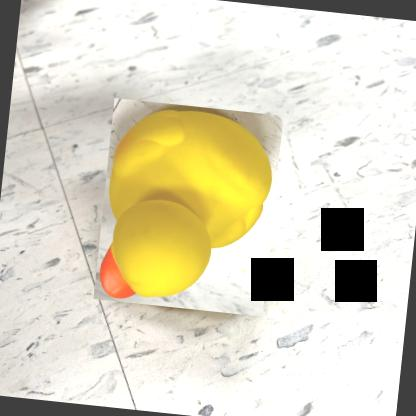duck: (93, 98, 283, 316)
